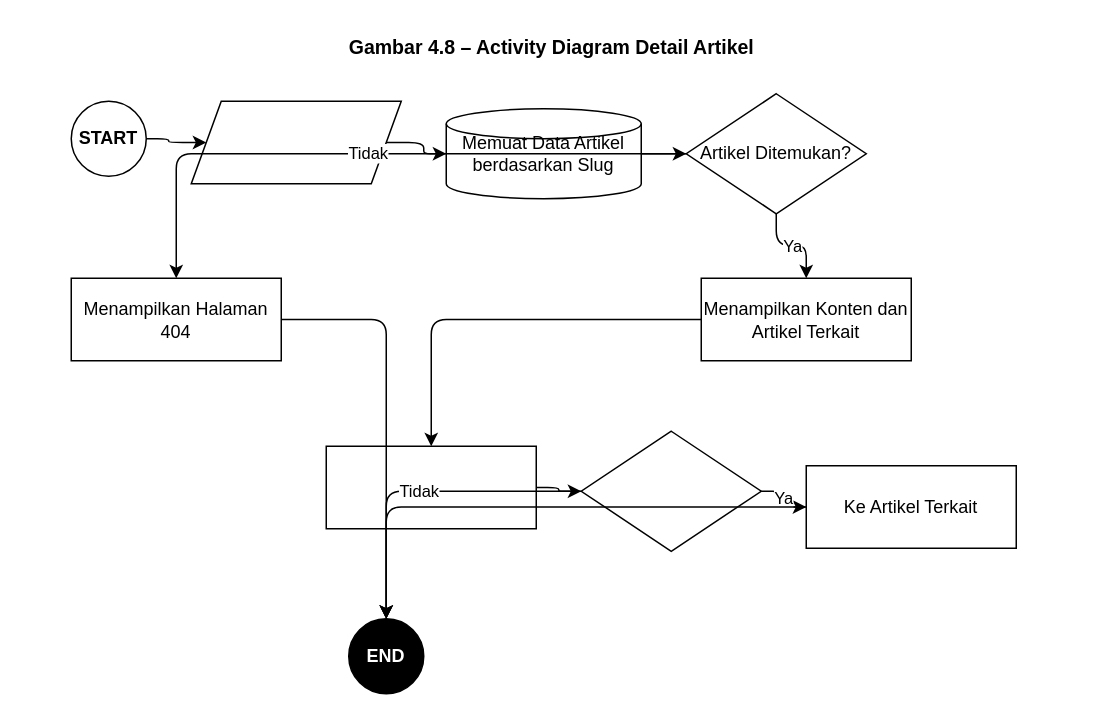
Image size: 1101x720. Some labels were removed from this diagram. The box of each missing label's shape, as (x1, y1, x2, y2) in pixels:
Klik Artikel Terkait?: (580, 430, 761, 551)
Membaca Konten Artikel: (325, 445, 536, 529)
Membuka Detail Artikel: (190, 100, 401, 184)
